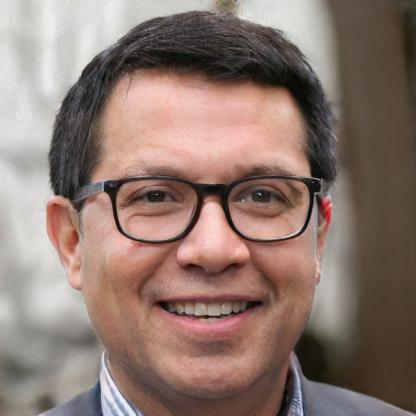glasses: (96, 169, 316, 246)
